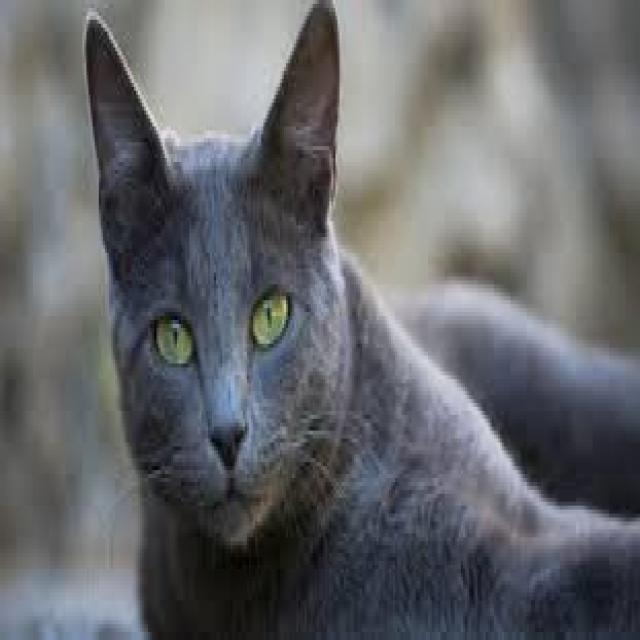Cat: (82, 3, 640, 638)
